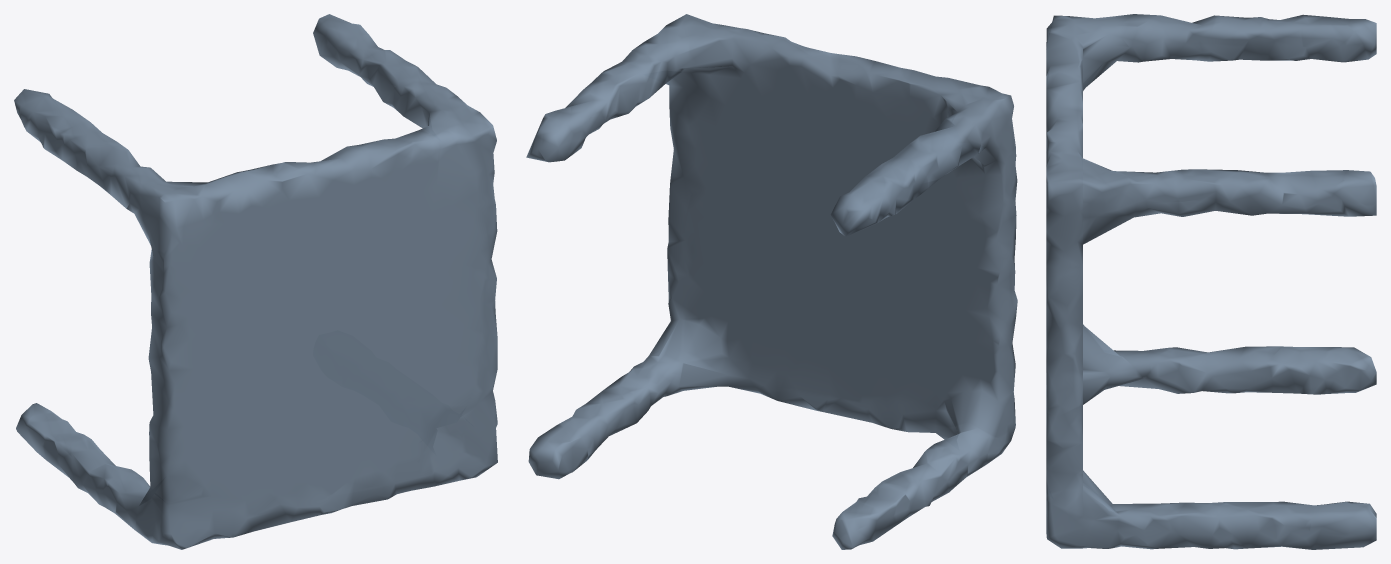
The model's file is table_0316_original.obj.
3 renders of one model, left to right at view 1: azimuth 30°, elevation 25°; view 2: azimuth 150°, elevation 25°; view 3: azimuth 270°, elevation 25°, orthographic. The views are drawn at different scales.
Size of the model in its own units: 1.07 by 1.07 by 0.8743.
